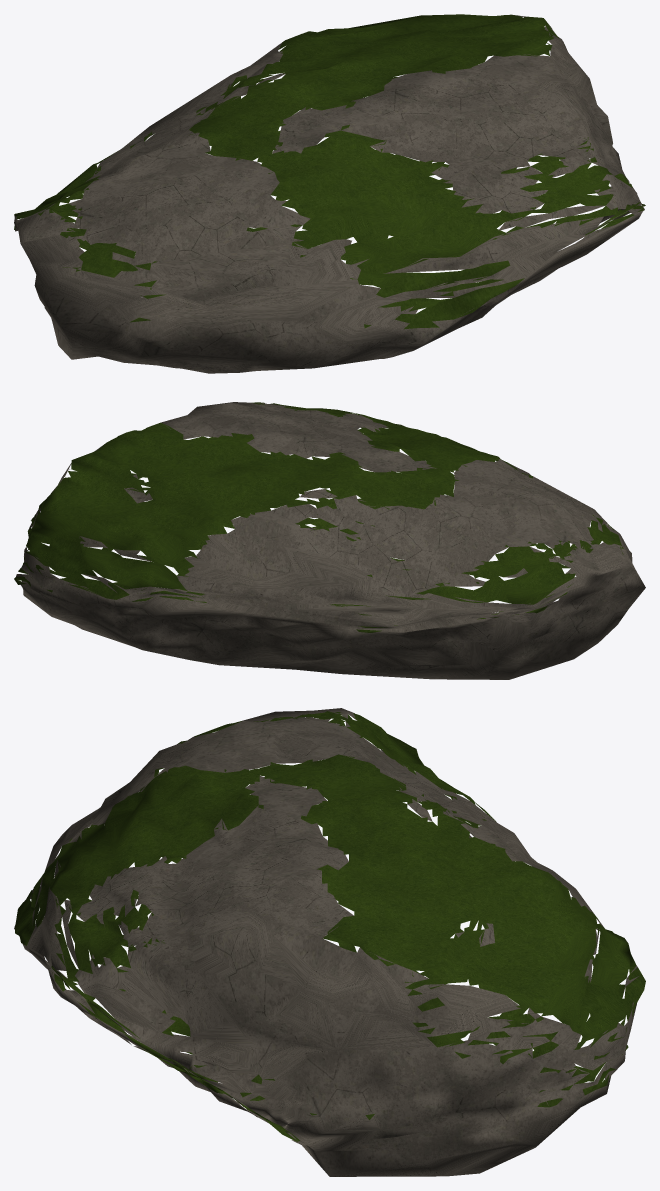
The model's file is rock_slab.glb.
3 views of the same model, one above another, from view 1: azimuth 30°, elevation 25°; view 2: azimuth 150°, elevation 25°; view 3: azimuth 270°, elevation 25° (orthographic). The views are drawn at different scales.
Parts seen in each view (by area): view 1: rock_slab_rock, rock_slab_moss; view 2: rock_slab_rock, rock_slab_moss; view 3: rock_slab_rock, rock_slab_moss.
Boxes of the visible parts, bbox=[...] form: rock_slab_rock: bbox=[14, 15, 644, 373]; rock_slab_moss: bbox=[14, 14, 645, 329]; rock_slab_rock: bbox=[16, 402, 645, 679]; rock_slab_moss: bbox=[14, 402, 623, 632]; rock_slab_rock: bbox=[14, 708, 638, 1176]; rock_slab_moss: bbox=[15, 711, 645, 1141].
Bounding box in the file's own units: 1.8 × 0.5302 × 1.42.
Materials: 2 (2 with a texture image).
